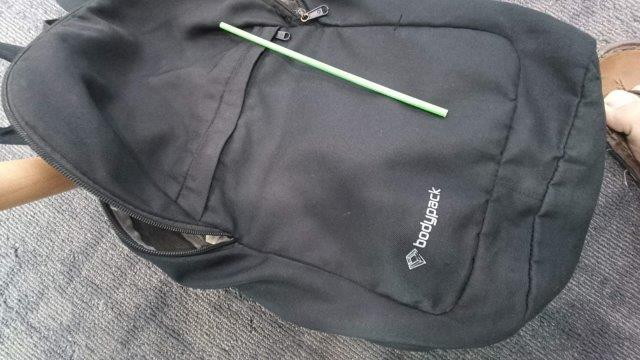sedotan: (219, 23, 448, 116)
